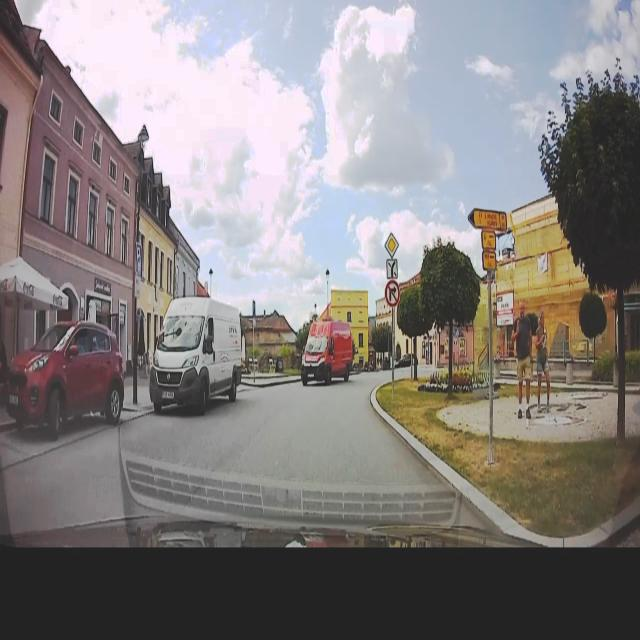Priority road: (382, 229, 400, 259)
